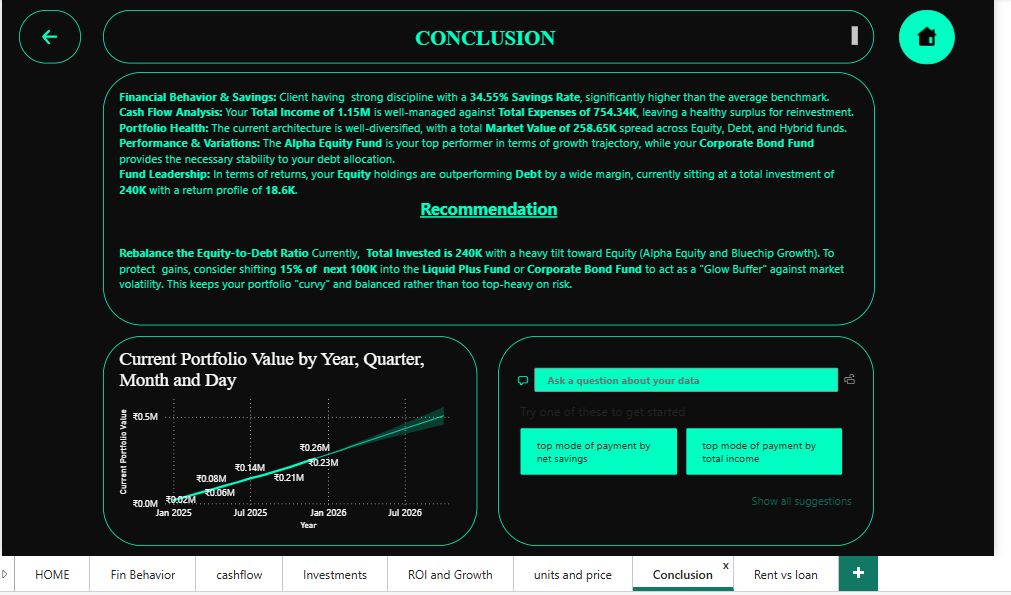

This screenshot's page, from the dashboard's own definition file:
{"tool":"powerbi","page":{"name":"Conclusion","canvas":[1280,720],"ordinal":6},"visuals":[{"type":"actionButton","box":[1157,15.7,72.4,70],"z":0},{"type":"actionButton","box":[21.7,15.9,79.5,69.4],"z":1000},{"type":"textbox","box":[129.8,16,994.7,69.3],"z":2000},{"type":"qnaVisual","box":[640,436.4,485.3,271.1],"z":3000},{"type":"textbox","box":[129.8,95.1,995.6,327.1],"z":4000},{"type":"lineChart","fields":{"Y":["_Measures2.Current Portfolio Value"],"Category":["DateTable.Date.Variation.Date Hierarchy.Year","DateTable.Date.Variation.Date Hierarchy.Quarter","DateTable.Date.Variation.Date Hierarchy.Month","DateTable.Date.Variation.Date Hierarchy.Day"]},"box":[129.8,436.4,482.7,271.1],"z":5000}]}

Visuals, with their boxes on the page's 1280x720 design canvas (x1, y1, x2, y2). These are canvas units, not pixel positions in the 1011x595 screenshot, which may show the page scaled, cropped or inside an application window:
actionButton: 1157:16:1229:86
actionButton: 22:16:101:85
textbox: 130:16:1124:85
qnaVisual: 640:436:1125:708
textbox: 130:95:1125:422
lineChart - _Measures2.Current Portfolio Value x DateTable.Date.Variation.Date Hierarchy.Year: 130:436:612:708
